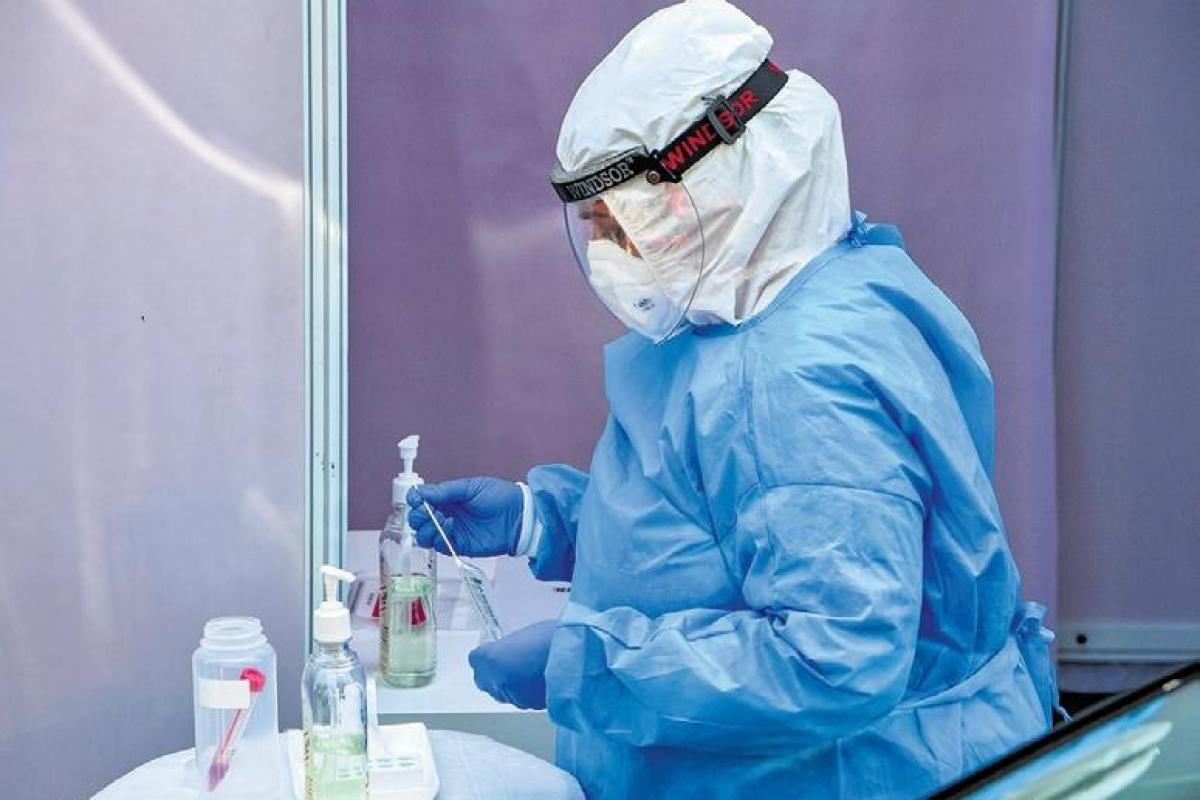Coverall: (524, 1, 1052, 792)
Face_Shield: (549, 143, 713, 352)
Gloves: (402, 466, 518, 559), (470, 611, 555, 714)
Goggles: (572, 201, 636, 252)
with_mask: (582, 212, 691, 338)
